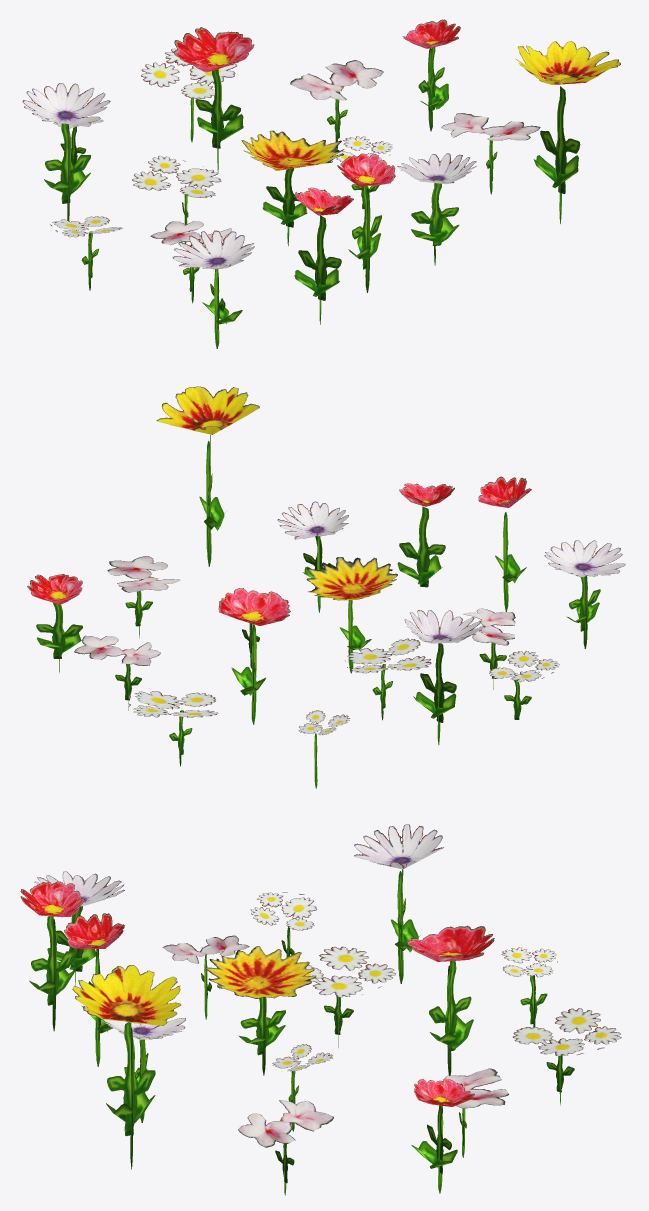
File: flower_bed_5m.DAE
The picture shows the model from 3 angles, top to bottom: view 1: azimuth 30°, elevation 25°; view 2: azimuth 150°, elevation 25°; view 3: azimuth 270°, elevation 25°; orthographic projection. The views are drawn at different scales.
Visible parts, largest first — view 1: Plane01-Pivot; view 2: Plane01-Pivot; view 3: Plane01-Pivot.
Boxes of the visible parts, left/top/right/bottom form: Plane01-Pivot: left=22, top=19, right=620, bottom=348; Plane01-Pivot: left=27, top=386, right=625, bottom=788; Plane01-Pivot: left=20, top=824, right=621, bottom=1195.
Bounding box in the file's own units: 3.24 × 1.23 × 3.27.
